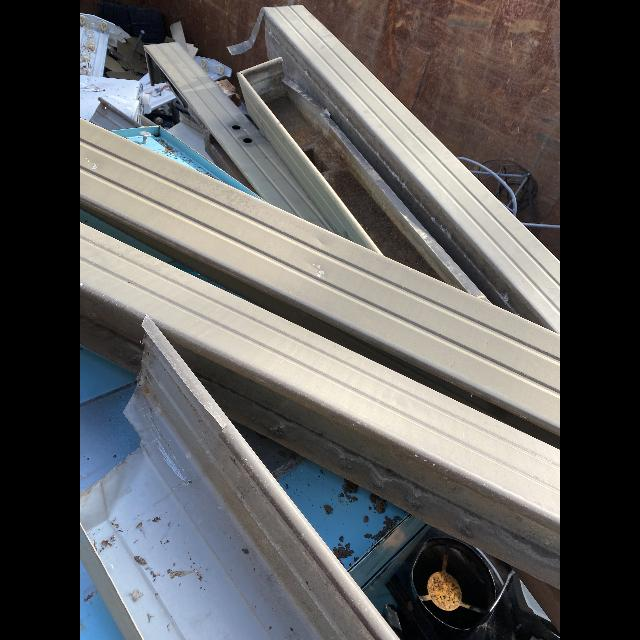Ferrous Metal: (80, 221, 560, 591), (80, 121, 560, 432), (228, 5, 560, 333), (80, 315, 402, 640), (237, 56, 493, 304), (146, 41, 348, 239), (239, 424, 429, 602), (108, 124, 266, 201), (80, 345, 138, 492), (80, 563, 127, 640), (80, 74, 141, 121), (172, 111, 213, 164), (427, 554, 462, 611), (88, 97, 143, 131), (93, 21, 125, 77), (110, 35, 148, 80), (127, 6, 165, 43), (98, 2, 133, 35), (144, 91, 177, 115), (216, 79, 241, 107), (170, 21, 187, 50), (138, 74, 166, 91), (186, 42, 199, 57)
